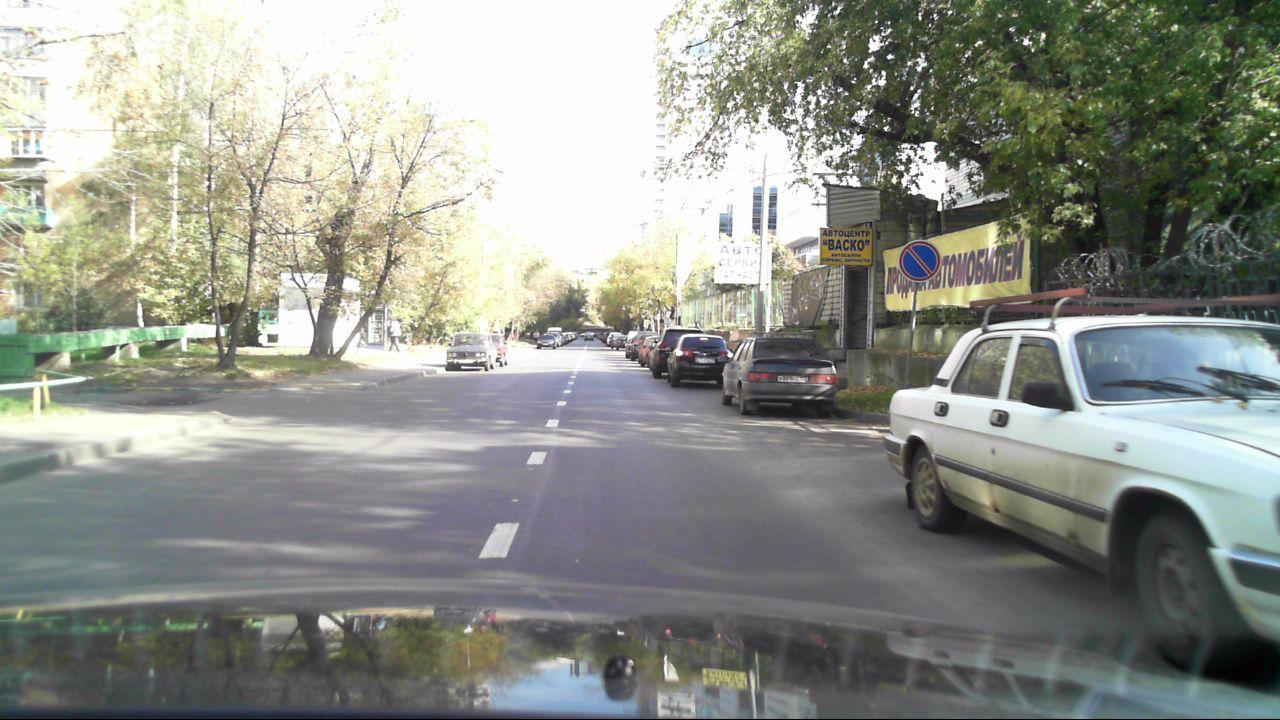3_28: (897, 238, 942, 283)
